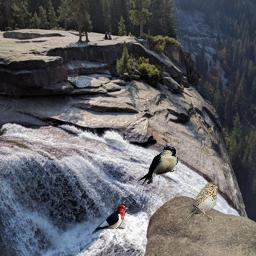Sparrow: (184, 182, 218, 222)
Swallow: (138, 146, 178, 185)
Woodpecker: (92, 204, 132, 234)
